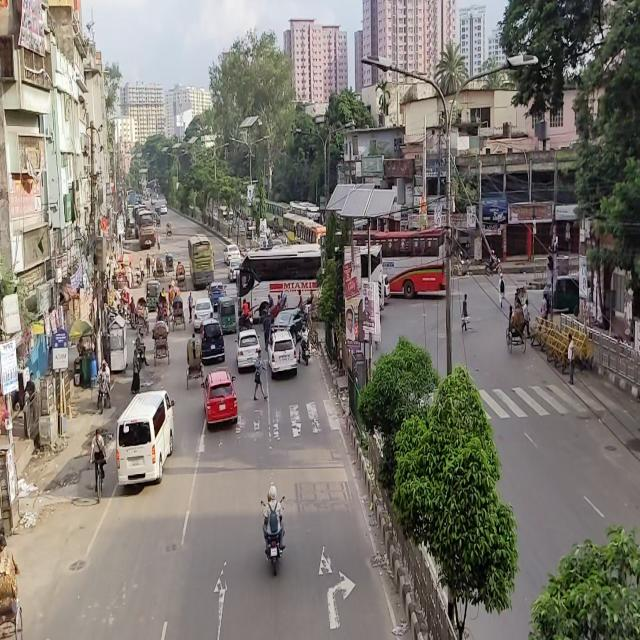black: (200, 320, 225, 365)
blue: (208, 277, 225, 307)
red: (204, 374, 238, 427)
white: (117, 389, 177, 489), (270, 330, 298, 378), (237, 332, 261, 371), (194, 298, 212, 330)
